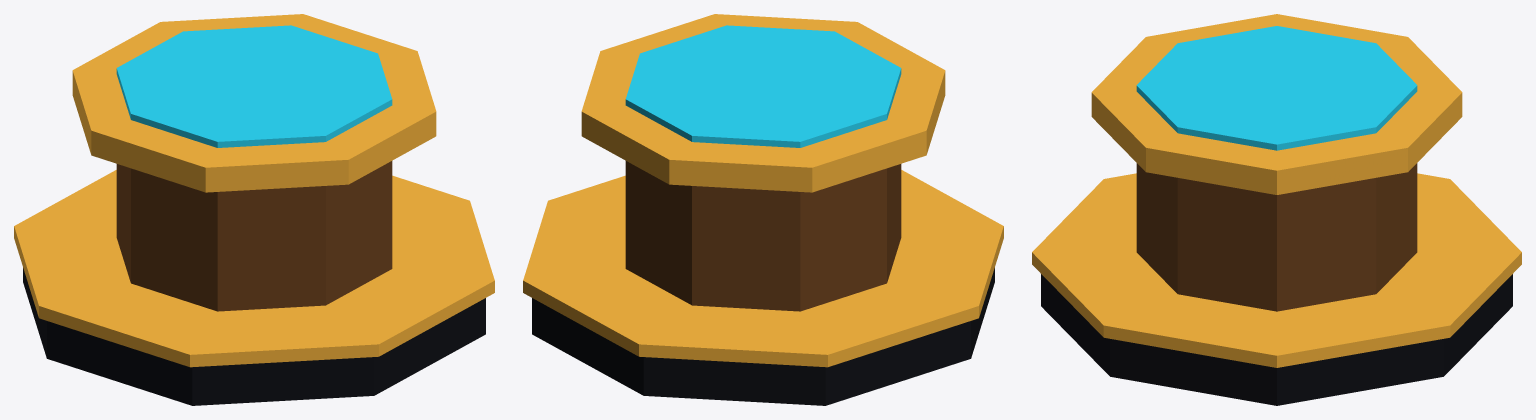
File: vmt_phase_a_crystal_pedestal_active.obj
3 views of the same model, side by side, from view 1: azimuth 30°, elevation 25°; view 2: azimuth 150°, elevation 25°; view 3: azimuth 270°, elevation 25° (orthographic).
Visible parts, largest first — view 1: VMT_PhaseA_CrystalPedestal_Active; view 2: VMT_PhaseA_CrystalPedestal_Active; view 3: VMT_PhaseA_CrystalPedestal_Active.
Part boxes in pixels (<box>): VMT_PhaseA_CrystalPedestal_Active: <box>14,14,494,405</box>; VMT_PhaseA_CrystalPedestal_Active: <box>523,14,1003,405</box>; VMT_PhaseA_CrystalPedestal_Active: <box>1032,14,1521,405</box>.
Size of the model in its own units: 4.36 by 2.17 by 4.36.
